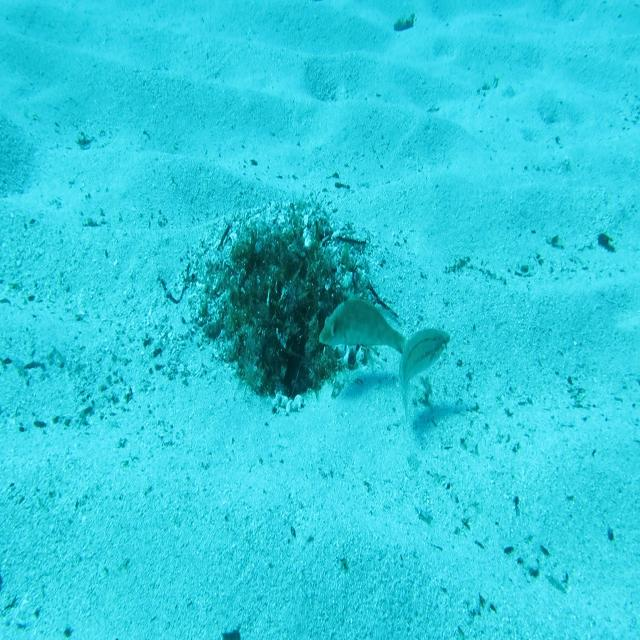BK_SW: (317, 287, 409, 358)
core_nest: (257, 244, 309, 277)
female: (397, 324, 452, 424)
nest: (178, 186, 394, 422)
vegetation: (391, 12, 418, 34)
